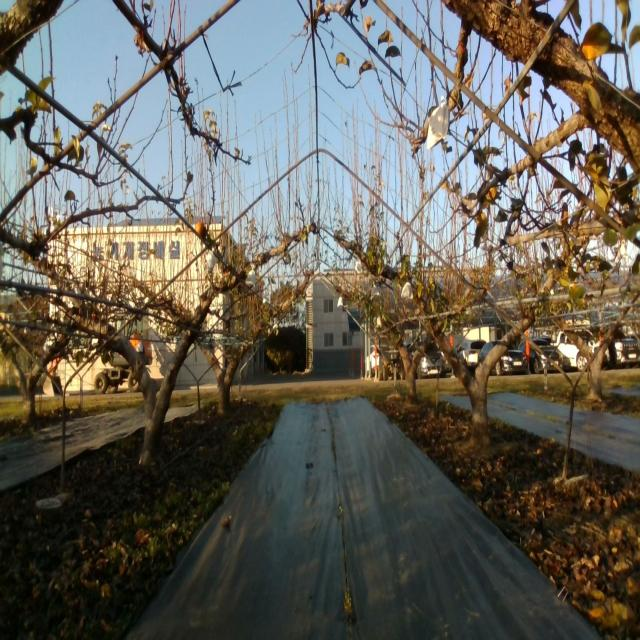pearbags: (426, 95, 451, 151), (206, 247, 216, 274), (401, 282, 414, 300)
